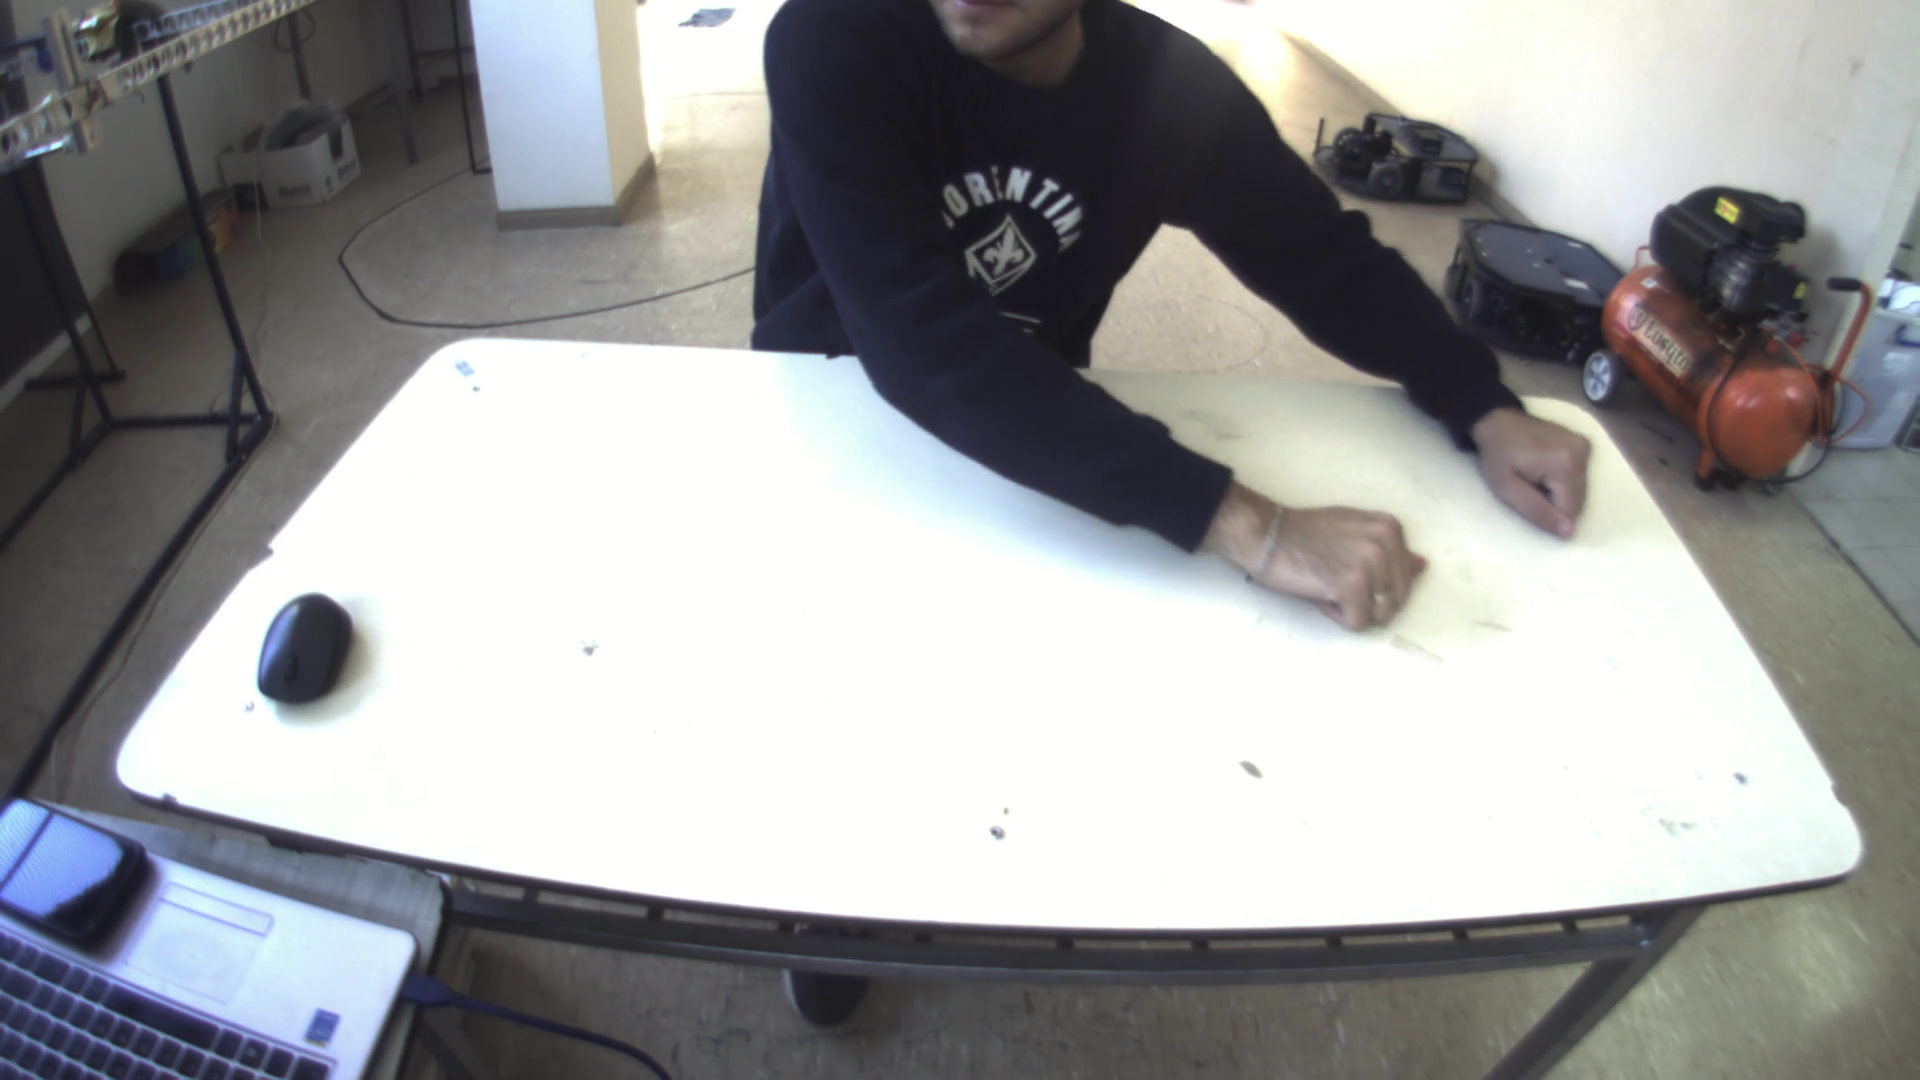hand: (1246, 488, 1437, 640), (1472, 398, 1614, 539)
